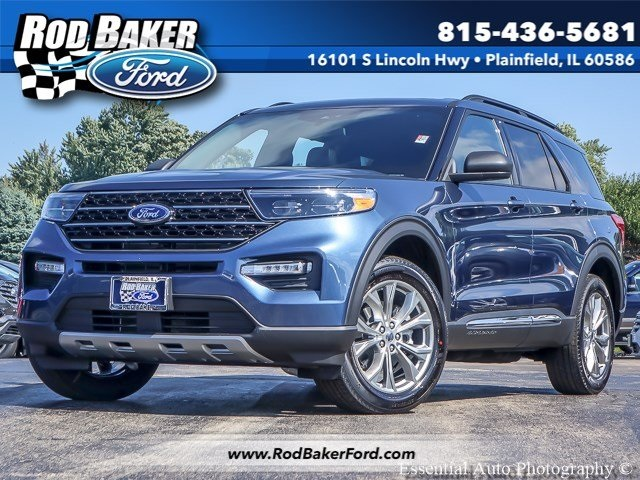Ford Explorer: (13, 94, 631, 419)
